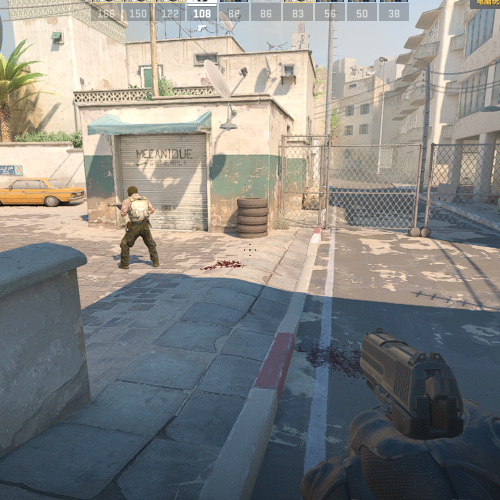t_body: (119, 185, 159, 270)
t_head: (126, 186, 138, 197)
